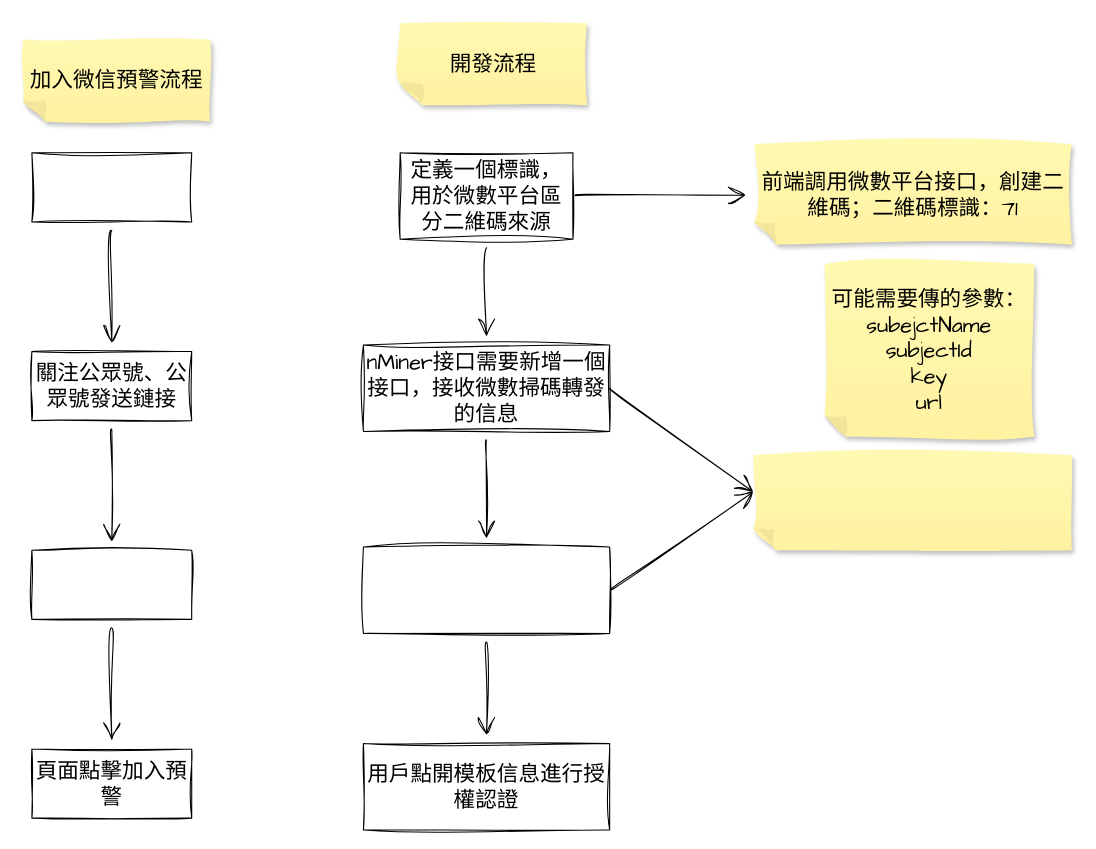
The diagram is 1096 pixels wide and 849 high, and some of its shapes have lost their labels. The shapes that lost their labels are listed below. From the top down, each one's centre as x and y in pixels, then its label:
At (111,187): "微信掃碼".
At (913,503): "nMiner接口，收到二維碼信息後，組織模板內容，給用戶發送模板消息".
At (111,584): "用戶打開鏈接，同意授權".
At (486,589): "接收到信息之後，調用模板接口，給用戶發送模板信息".
